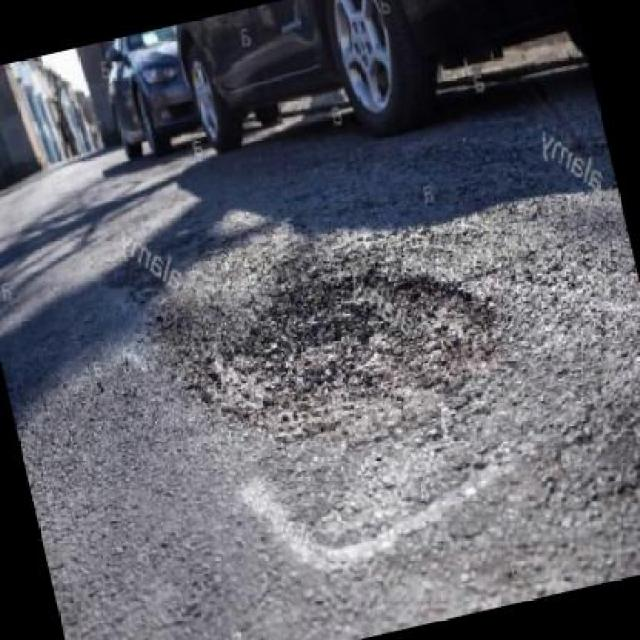pothole1: (140, 228, 526, 488)
